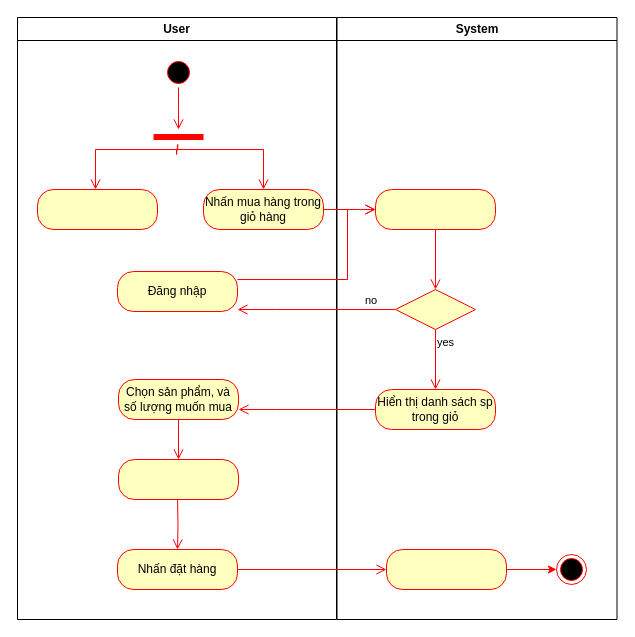
This 635x637 diagram has some shape labels left out. Here are the shapes that lost their labels. From the top down, the centre of each, then its label:
point (97, 209): Mua ngay
point (435, 209): kiểm tra đã đăng nhập
point (178, 479): Chọn phiếu giảm giá
point (446, 569): Hiển thị trang thông tin đặt hàng
